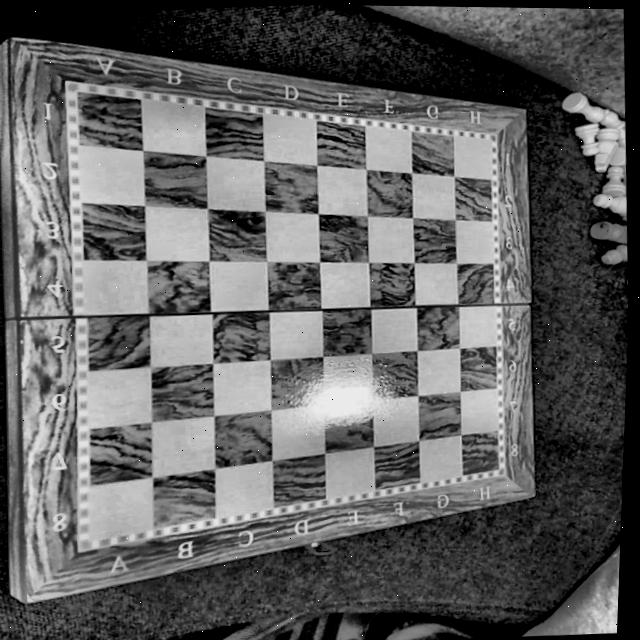chessboard: (79, 93, 496, 540)
